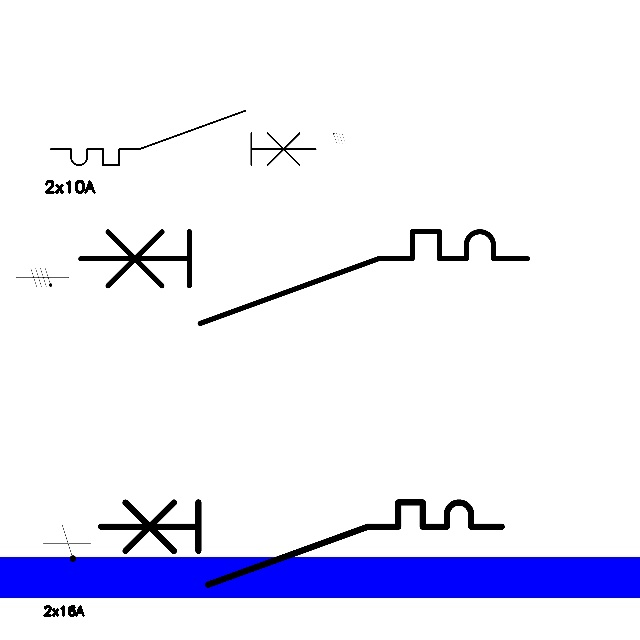interruptor_termomagnetico: (69, 220, 539, 335), (90, 492, 511, 595), (44, 104, 322, 172)
